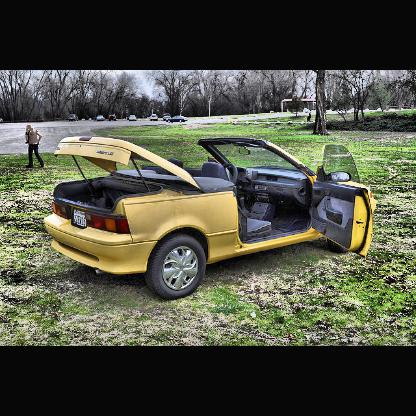Geo Metro Convertible 1993: (43, 135, 379, 301)
